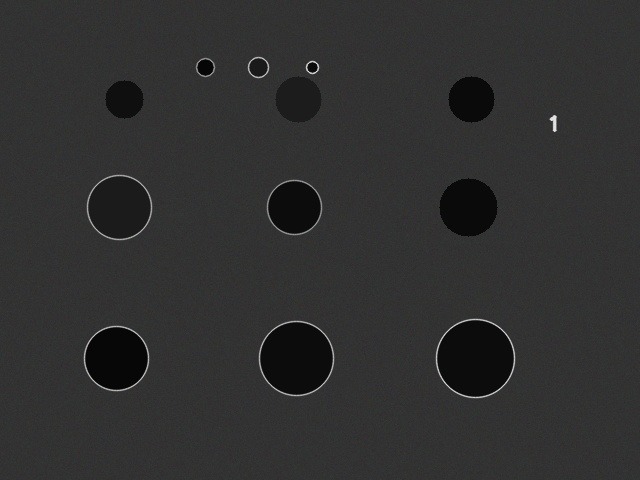hole: (436, 319, 514, 397), (259, 321, 333, 395), (87, 175, 151, 239), (84, 326, 148, 390), (439, 178, 497, 236), (267, 180, 321, 234), (275, 76, 321, 122), (448, 76, 494, 122), (105, 80, 143, 118), (248, 57, 268, 77), (196, 58, 214, 76), (306, 61, 318, 73)
